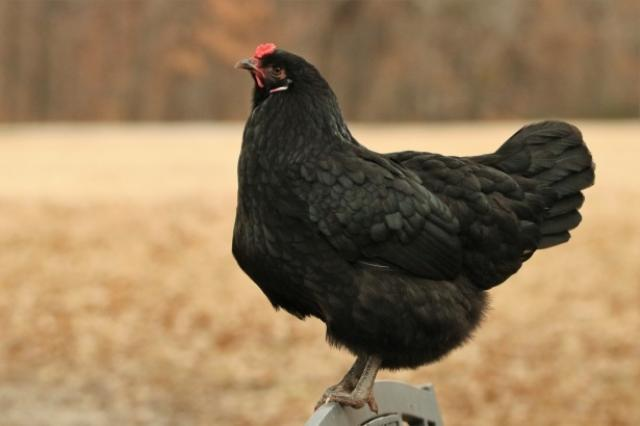Chicken: (232, 42, 595, 408)
